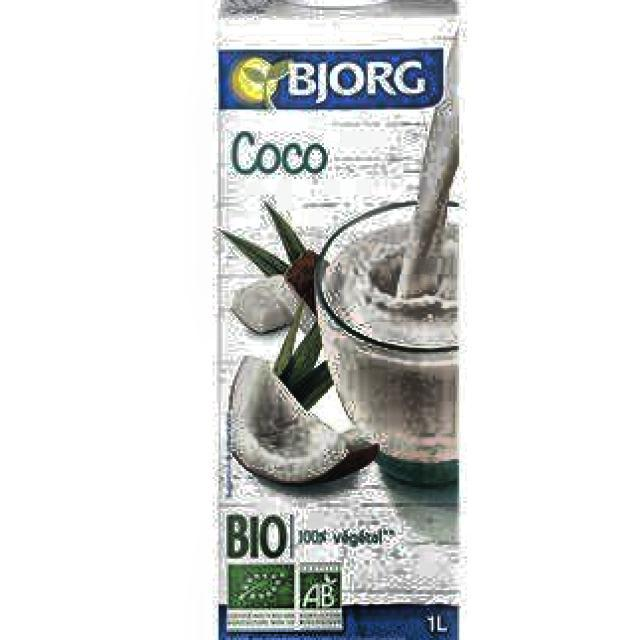cardboard: (213, 0, 463, 640)
